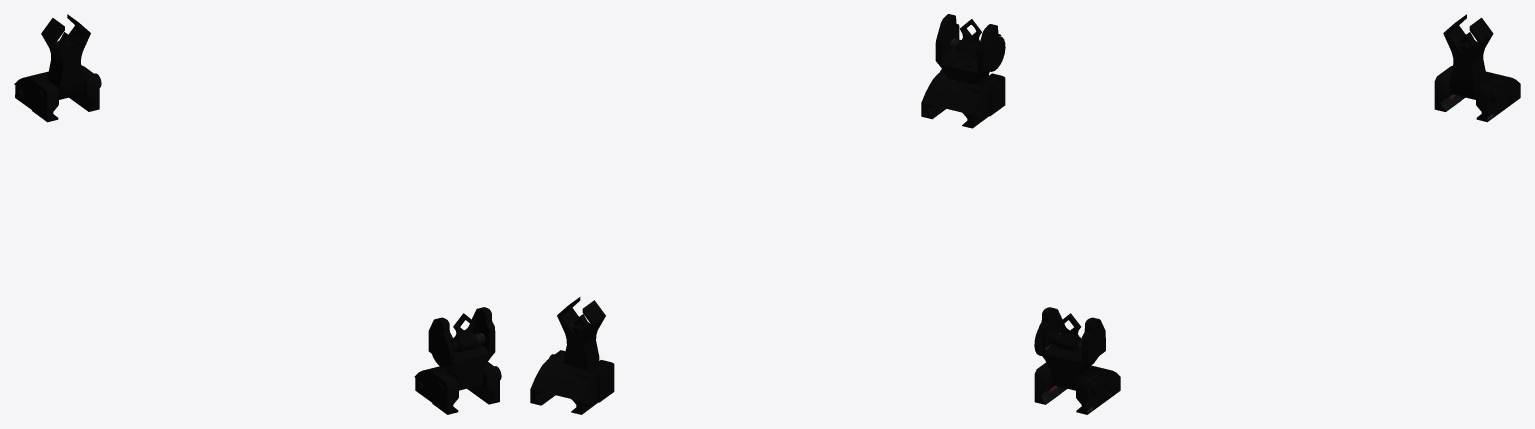
Rendered from R4C-Iron-Sight.glb.
The picture shows the model from 3 angles, left to right: view 1: azimuth 30°, elevation 25°; view 2: azimuth 150°, elevation 25°; view 3: azimuth 330°, elevation 25°; orthographic projection. The views are drawn at different scales.
Visible parts, largest first — view 1: R4C Iron Sight; view 2: R4C Iron Sight; view 3: R4C Iron Sight.
Boxes of the visible parts, x1=… form: R4C Iron Sight: x1=14, y1=14, x2=501, y2=414; R4C Iron Sight: x1=530, y1=14, x2=1005, y2=414; R4C Iron Sight: x1=1034, y1=14, x2=1520, y2=414.
Size of the model in its own units: 0.021 by 0.0307 by 0.268.
1 material, 1 textured.
